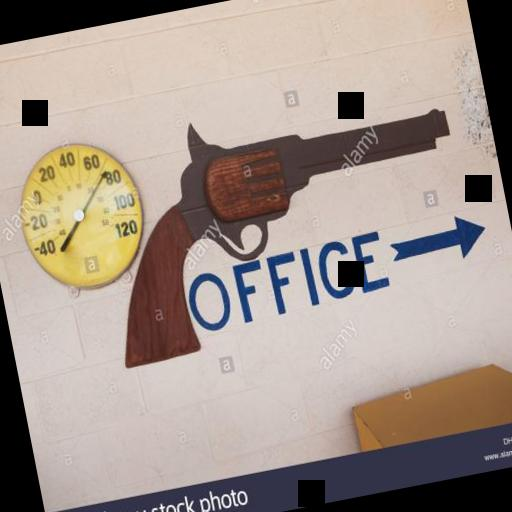Handgun: (78, 66, 483, 368)
